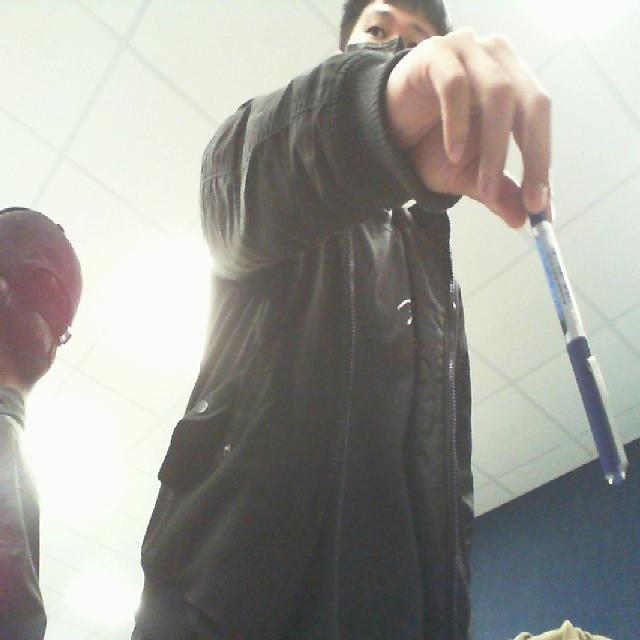Pen: (518, 176, 632, 492)
